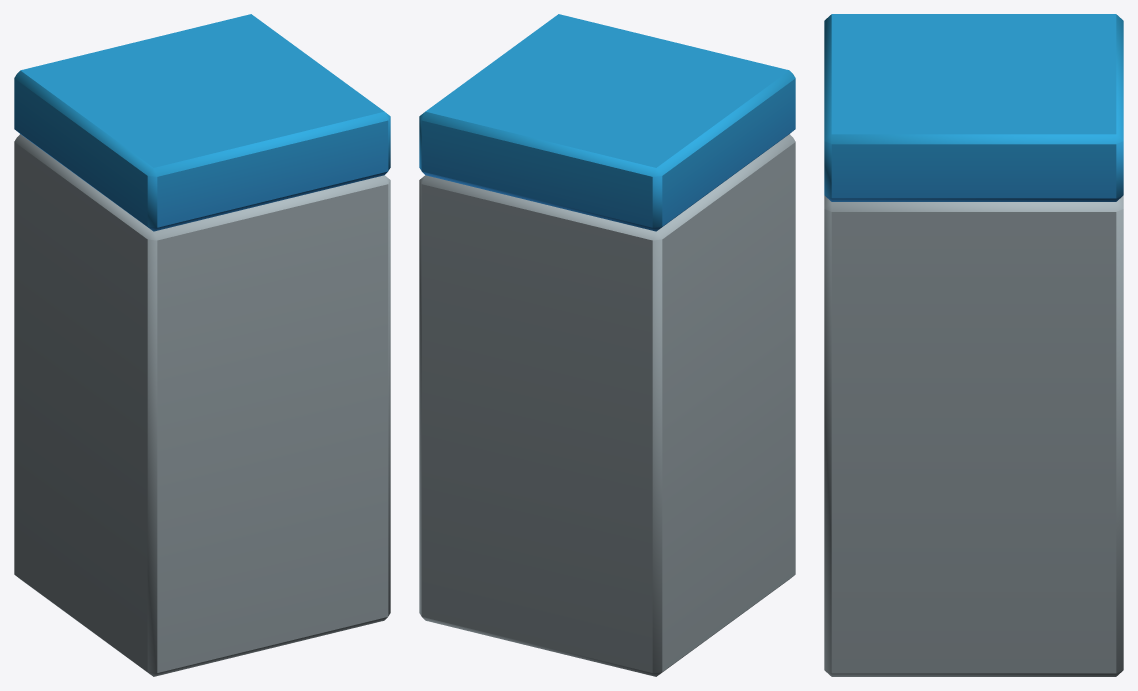
The model's file is platform_2x2x4_blue.obj.
The picture shows the model from 3 angles, left to right: view 1: azimuth 30°, elevation 25°; view 2: azimuth 150°, elevation 25°; view 3: azimuth 270°, elevation 25°; orthographic projection. The views are drawn at different scales.
Visible parts, largest first — view 1: platform_2x2x4_blue; view 2: platform_2x2x4_blue; view 3: platform_2x2x4_blue.
Boxes of the visible parts, x1,y1,x2,y2 form: platform_2x2x4_blue: [14, 14, 390, 676]; platform_2x2x4_blue: [419, 14, 795, 676]; platform_2x2x4_blue: [824, 14, 1123, 676].
Bounding box in the file's own units: 2 × 4 × 2.
